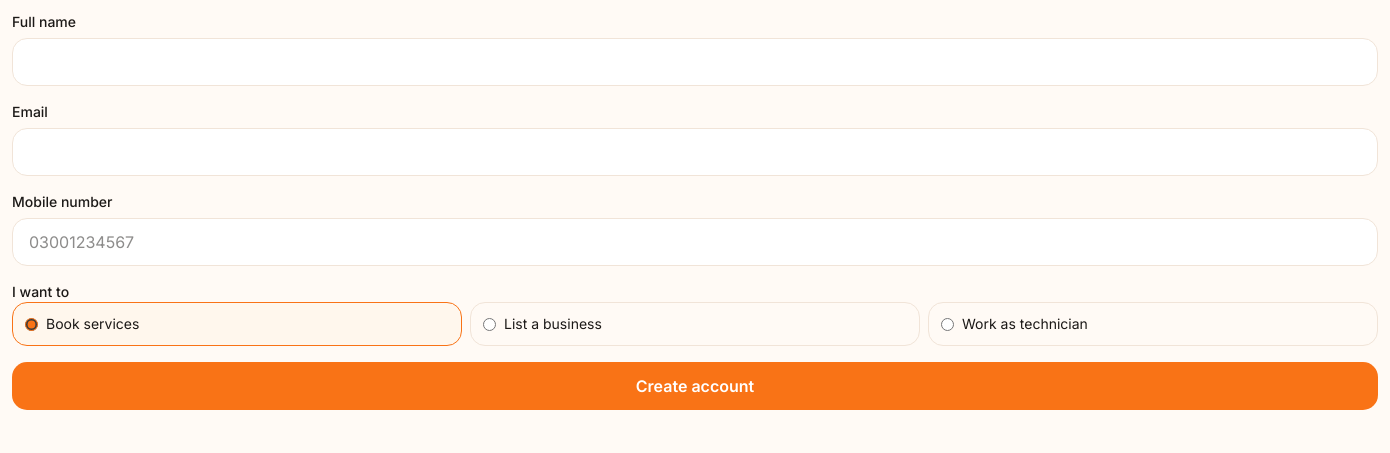
SignUpForm › submits the entered values and shows server field errors
Type "Ali" into the field labelled "Full name" at (695, 62), box [12,38,1378,86]
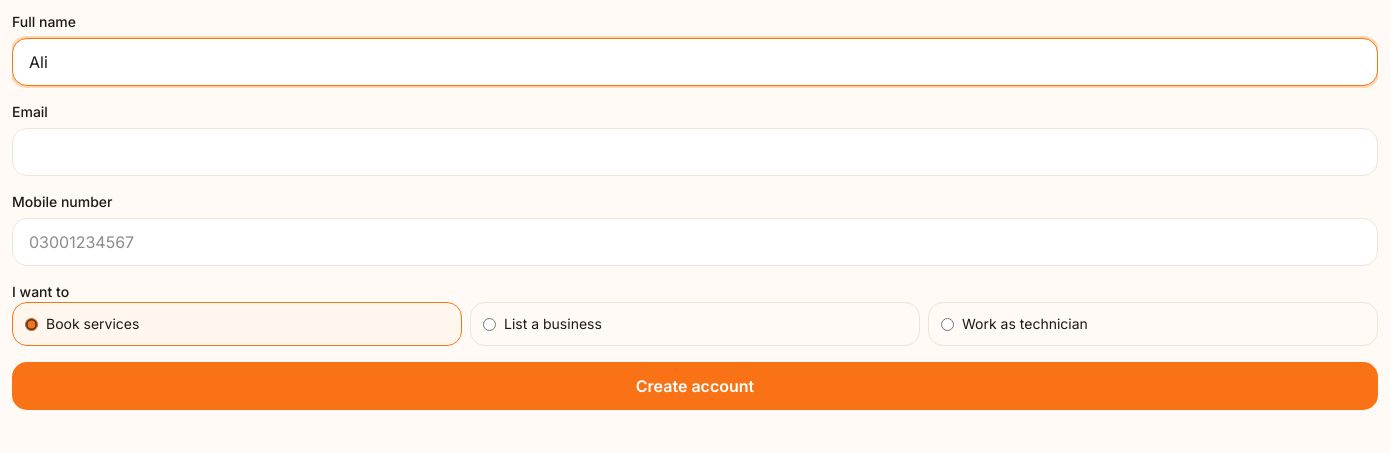
Type "ali@example.com" into the field labelled "Email" at (695, 152), box [12,128,1378,176]
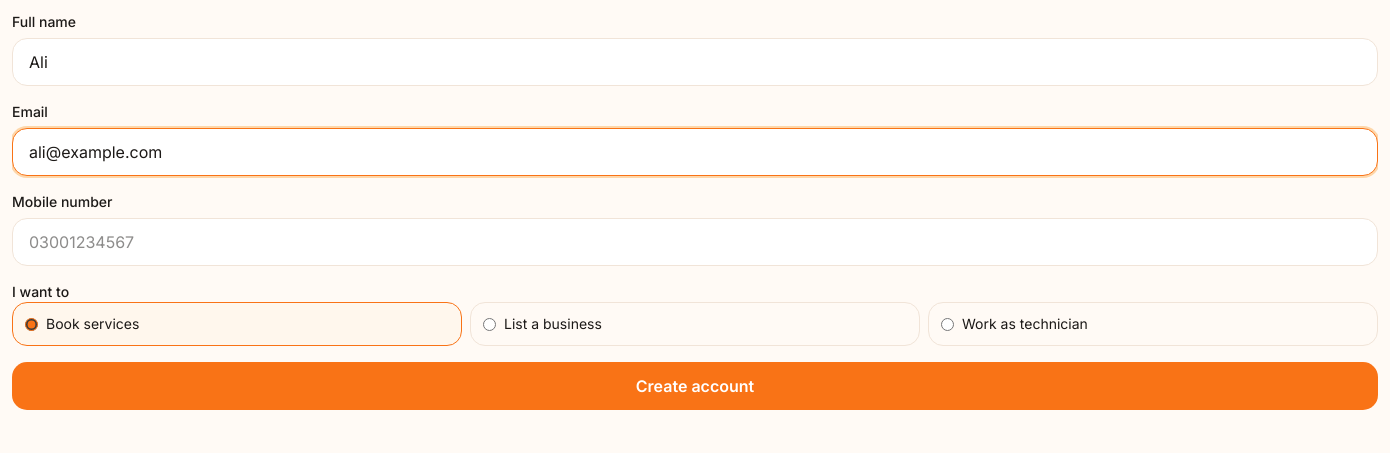
Type "123" into the field labelled "Mobile number" at (695, 242), box [12,218,1378,266]
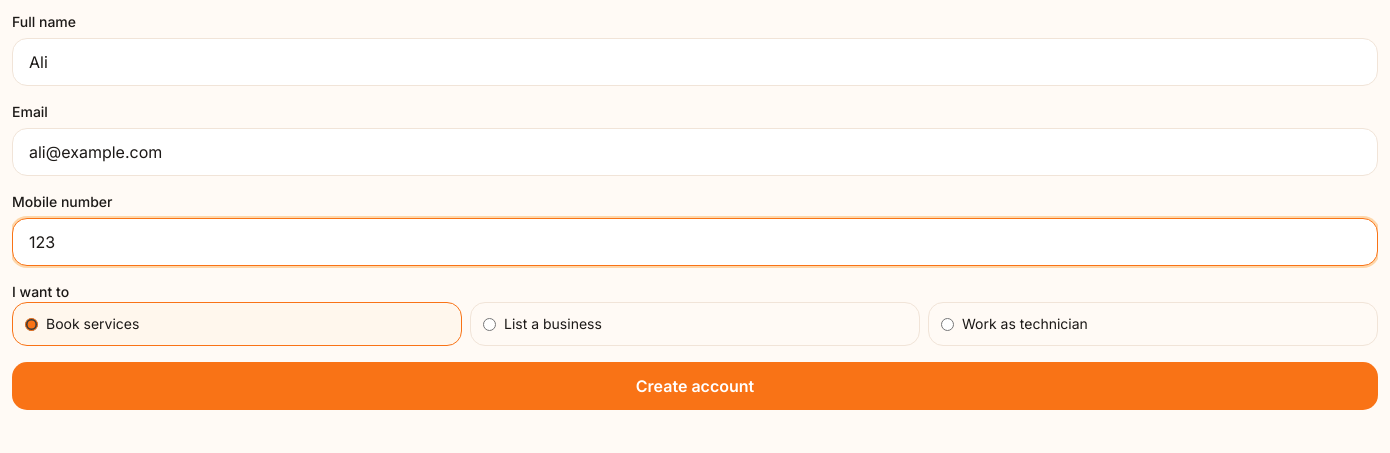
Click the radio button labelled "List a business" at (490, 324), box [483,318,496,330]
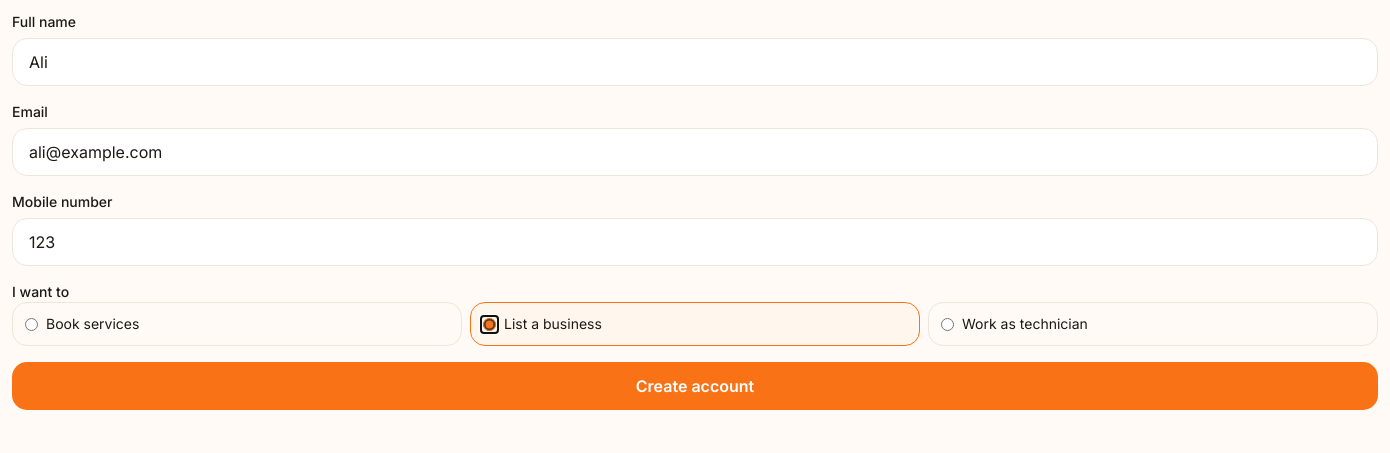
Click the button "Create account" at (695, 386), box [12,362,1378,410]
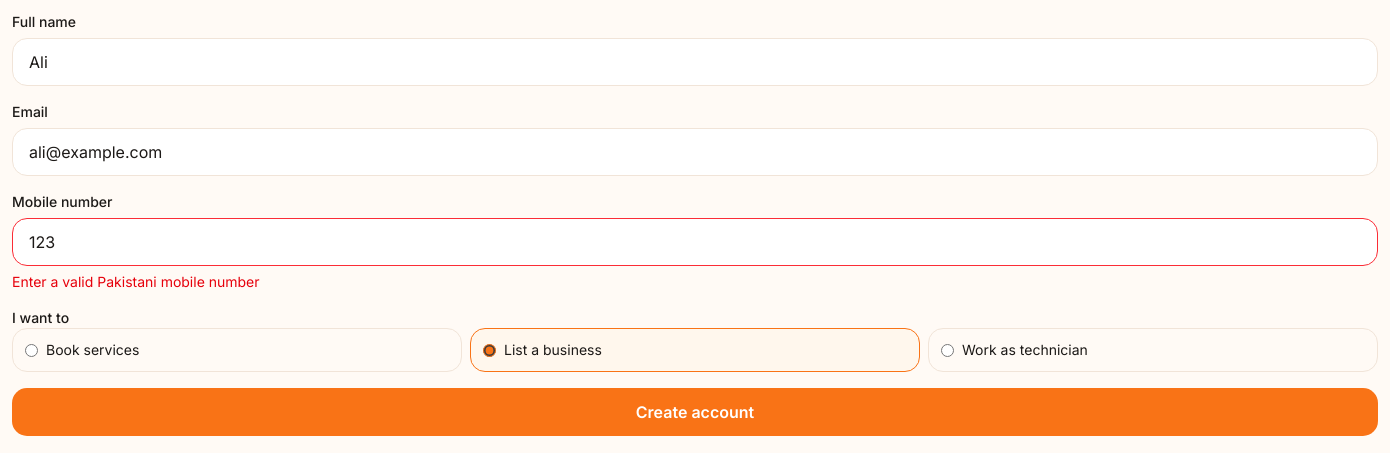
Expected: the text "Enter a valid Pakistani mobile number" is shown, [12,273,260,290]
